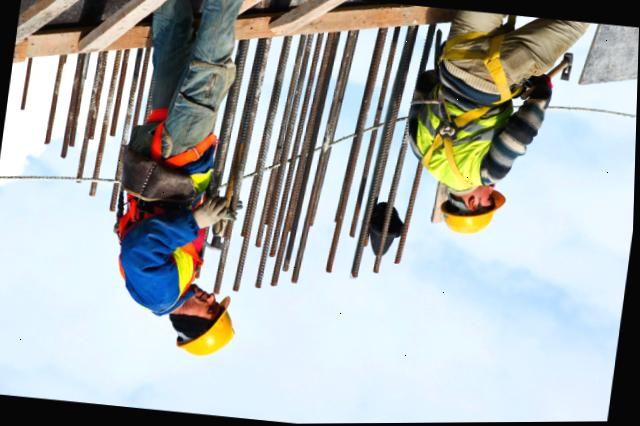helmet: (434, 183, 512, 238), (177, 295, 240, 363)
vest: (116, 121, 218, 308), (416, 79, 501, 191)
